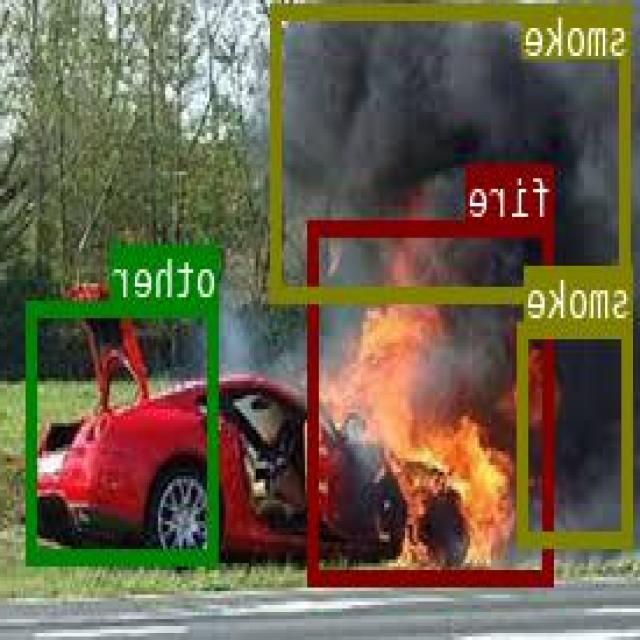fire: (312, 219, 554, 584)
other: (28, 300, 220, 562)
smoke: (273, 2, 633, 300), (521, 321, 635, 545)
